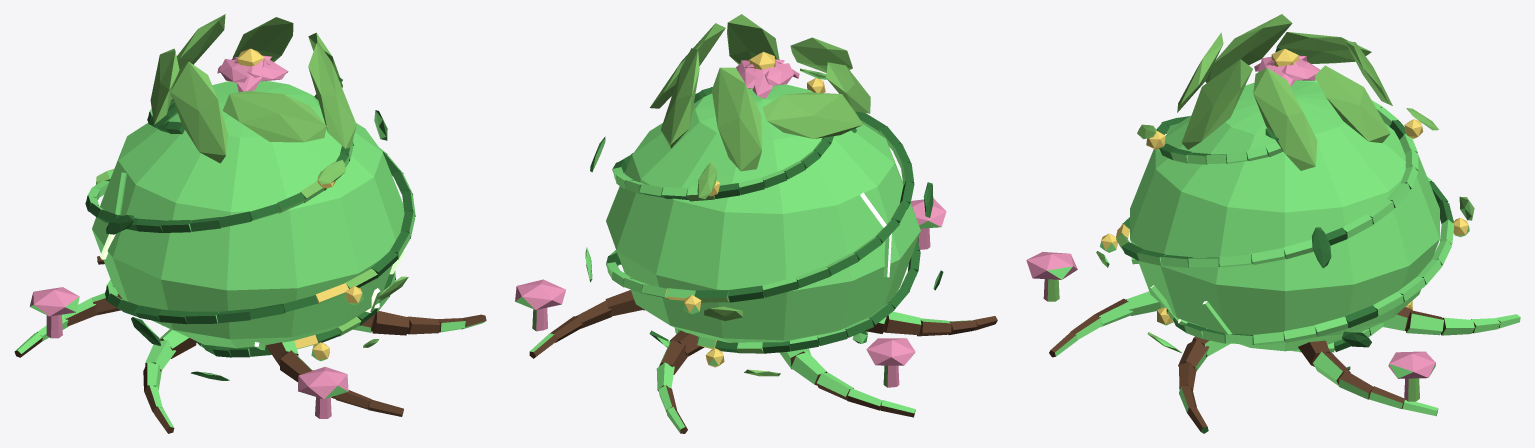
Rendered from fruto-vitalidade.glb.
3 views of the same model, side by side, from view 1: azimuth 30°, elevation 25°; view 2: azimuth 150°, elevation 25°; view 3: azimuth 270°, elevation 25° (orthographic).
Parts seen in each view (by area): view 1: Fruit_Body; view 2: Fruit_Body; view 3: Fruit_Body.
Boxes of the visible parts, <box> form: Fruit_Body: <box>14,14,486,433</box>; Fruit_Body: <box>515,14,997,433</box>; Fruit_Body: <box>1026,14,1520,433</box>.
Size of the model in its own units: 1.69 by 1.29 by 1.87.
